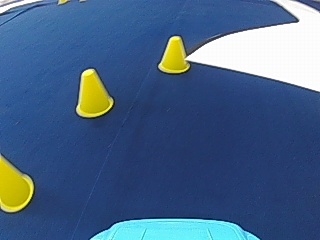cone: (0, 155, 34, 213), (75, 67, 113, 118), (158, 35, 190, 74)
